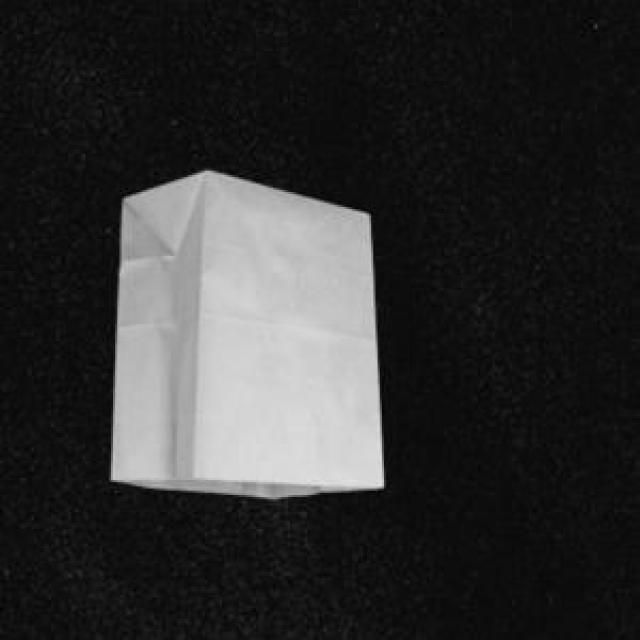paper: (107, 166, 380, 495)
